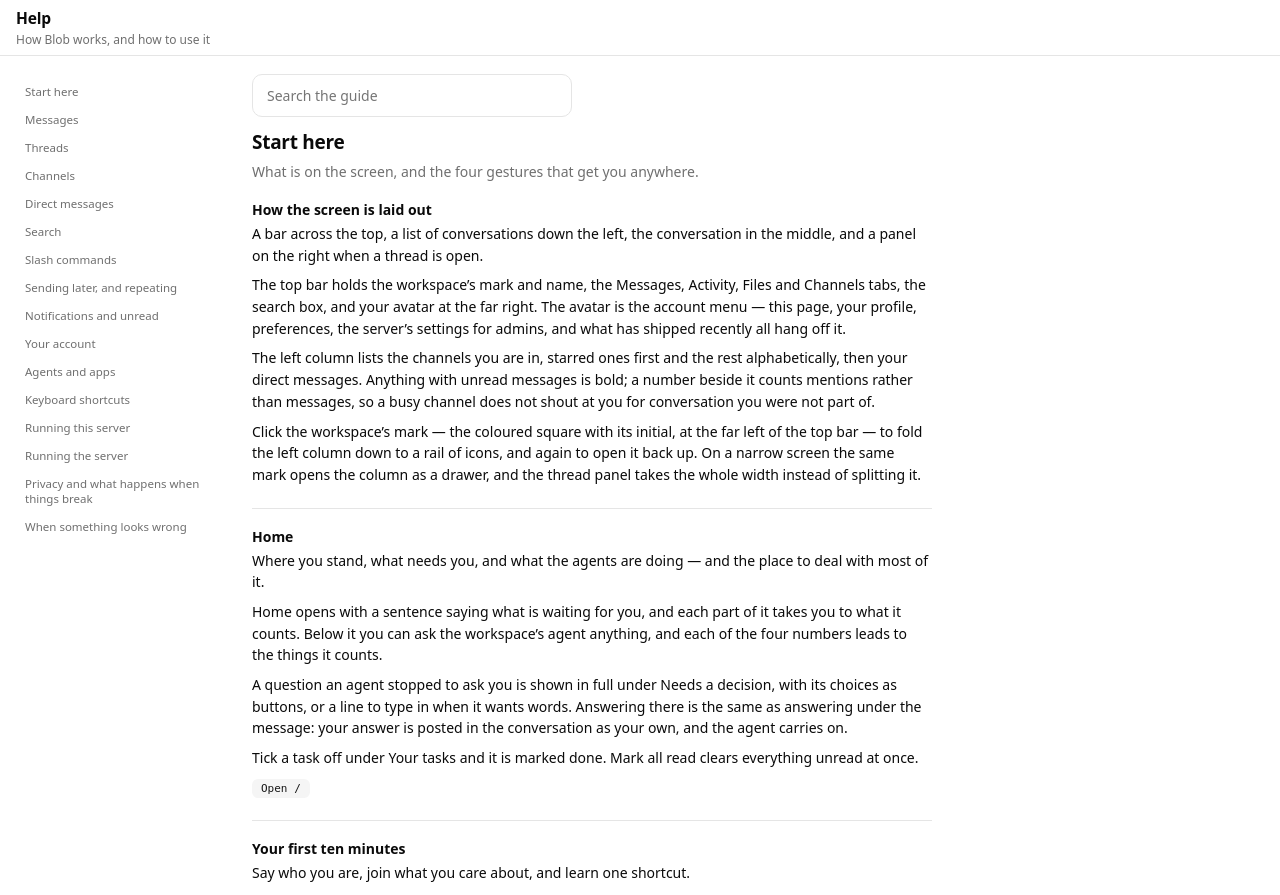
Test: the filter › says how many topics matched
Step 1. Type "zzzznothingmatchesthis" into the search field labelled "Search the guide" → (412, 96), box x1=252 y1=74 x2=572 y2=117
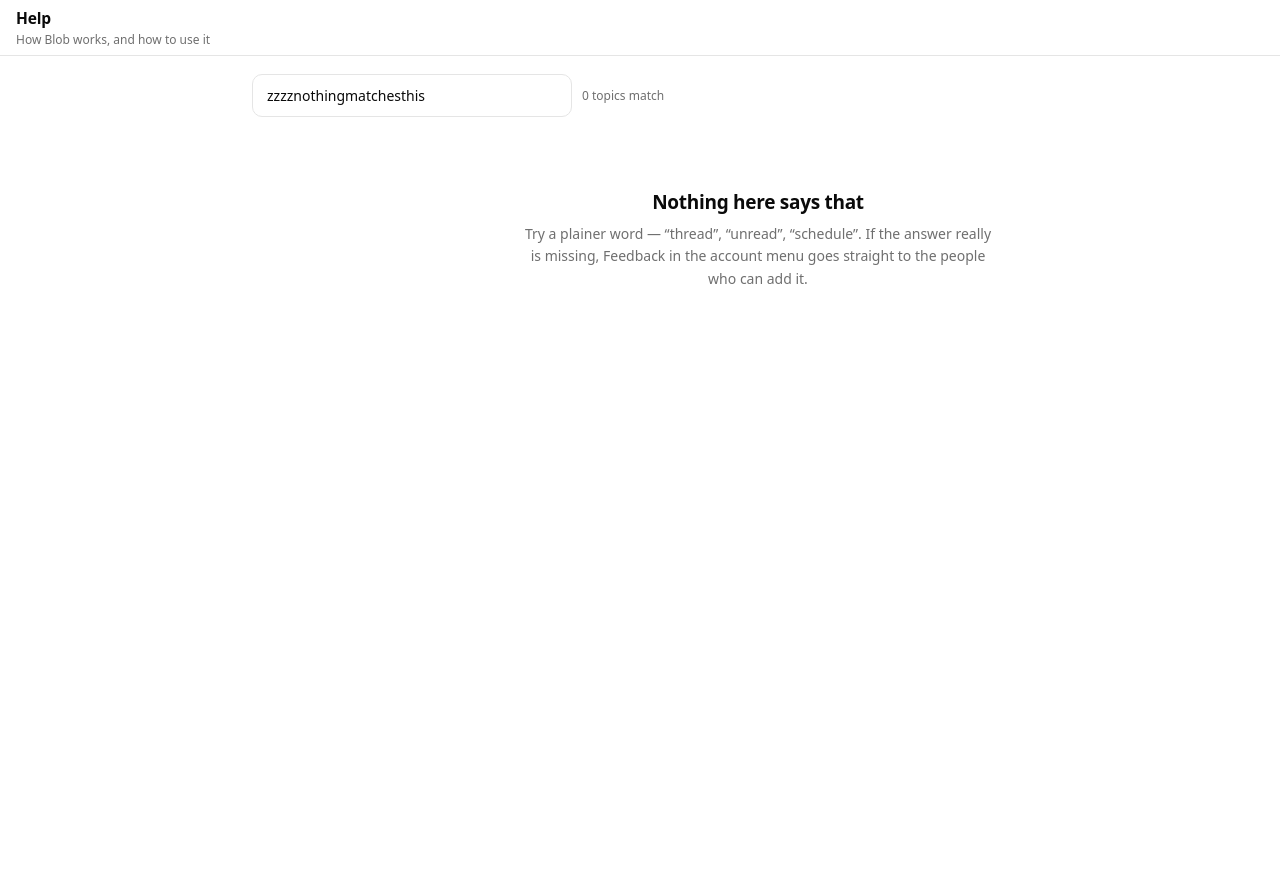
Check: the message reads "0 topics match", box x1=582 y1=87 x2=664 y2=104
